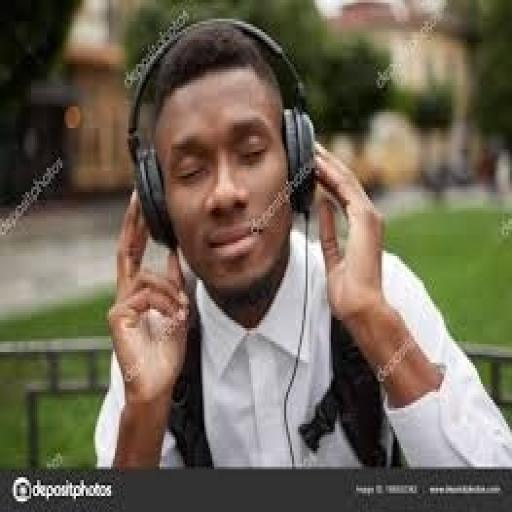listening_to_music: (92, 13, 510, 472)
